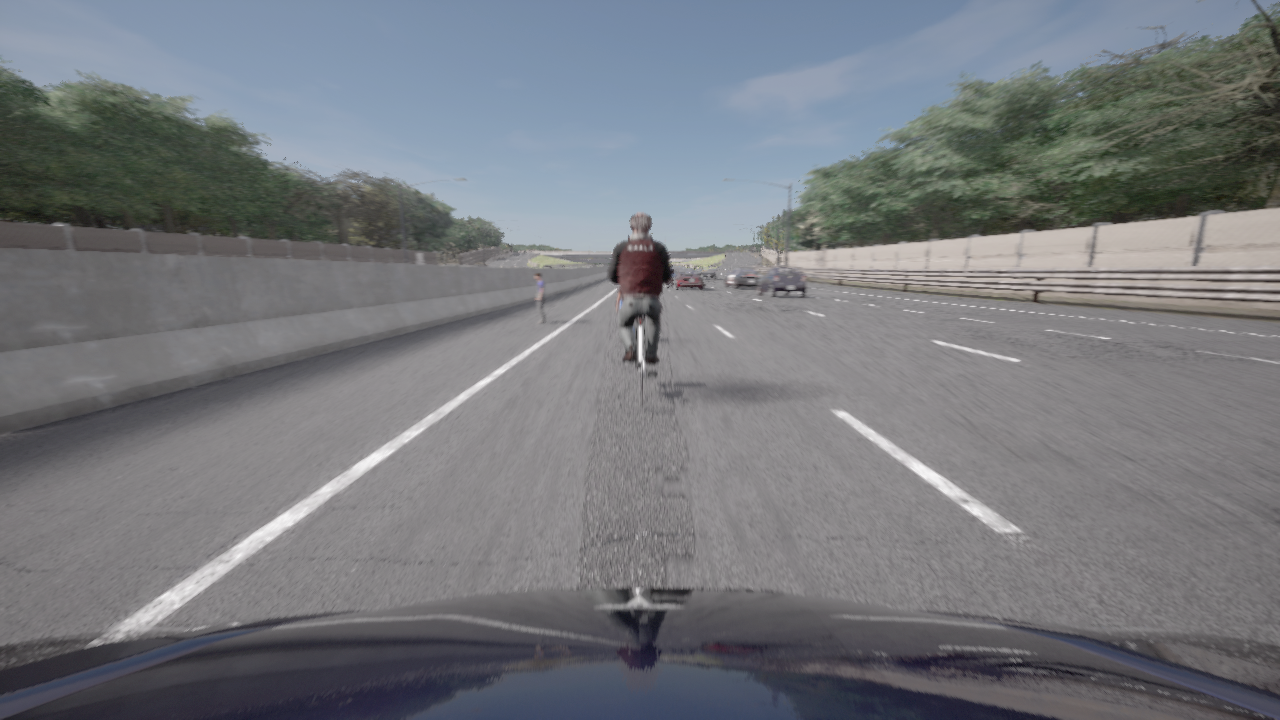cyclist: (0, 588, 1279, 719), (634, 317, 656, 407), (757, 266, 806, 297), (725, 266, 760, 289), (665, 269, 703, 290), (696, 266, 716, 279), (670, 265, 684, 272), (800, 270, 805, 275)
pedestrian: (615, 285, 634, 341), (534, 272, 545, 323)
